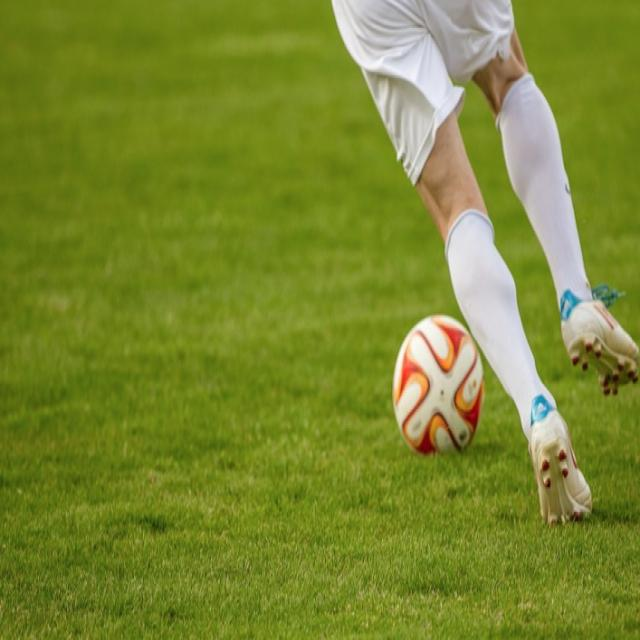football: (393, 289, 488, 481)
